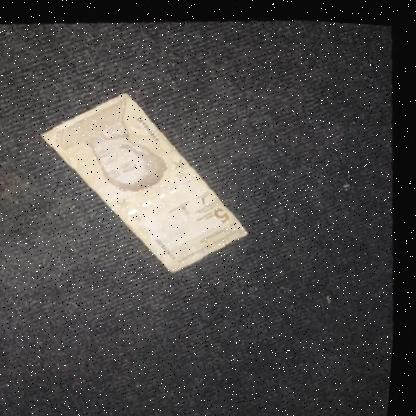five-front-vef: (32, 81, 261, 279)
